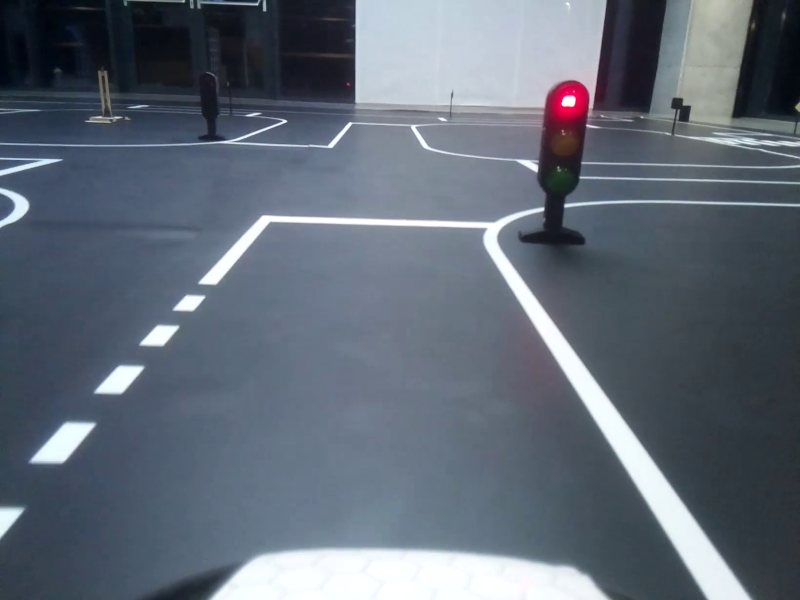traffic_red: (538, 79, 580, 198)
